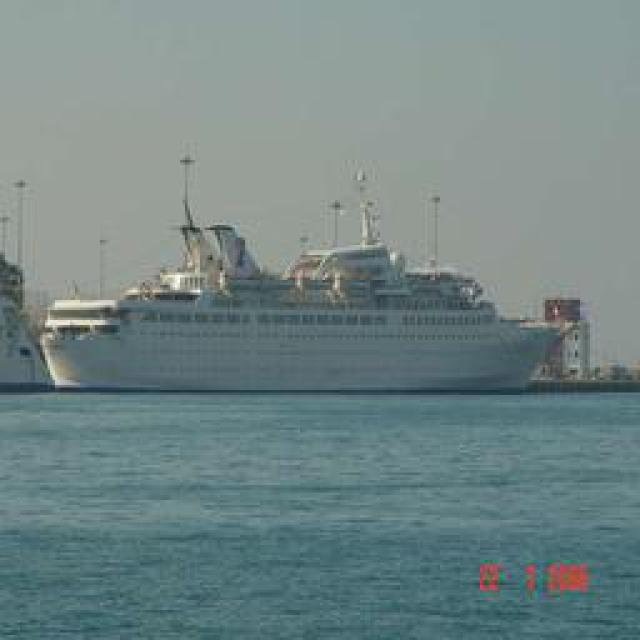Ship: (49, 208, 579, 396)
